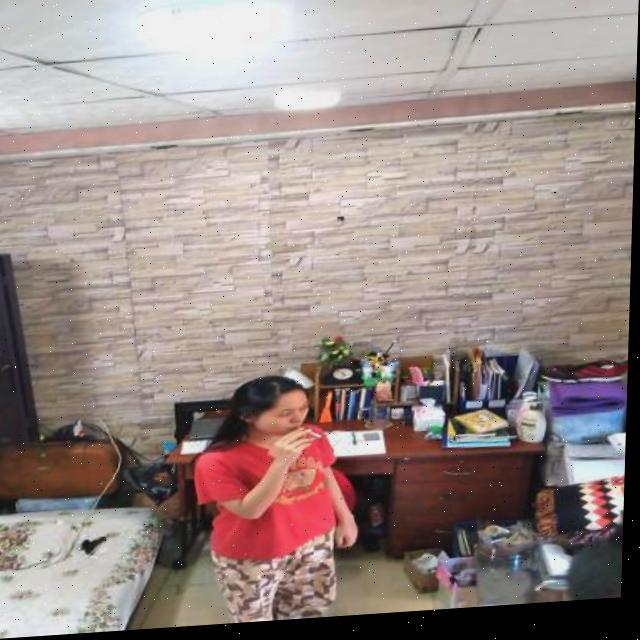cigarette: (313, 435, 326, 443)
